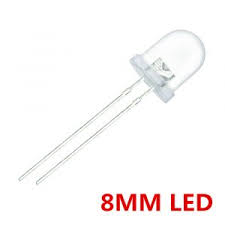LED: (124, 19, 207, 108)
